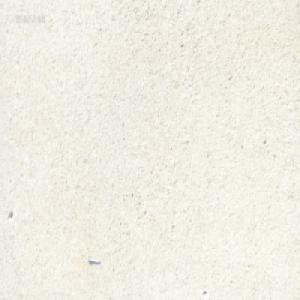Nail: (87, 254, 101, 264)
